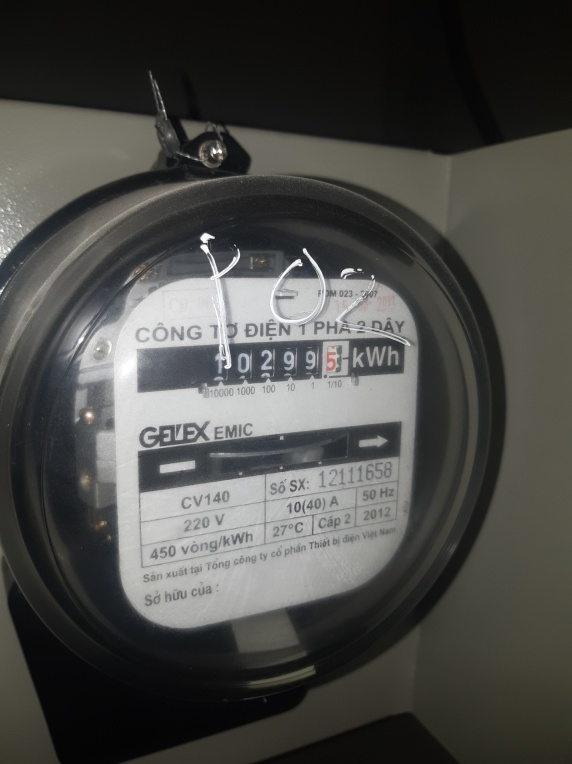counter: (143, 340, 407, 390)
electricity_meter: (12, 177, 508, 687)
